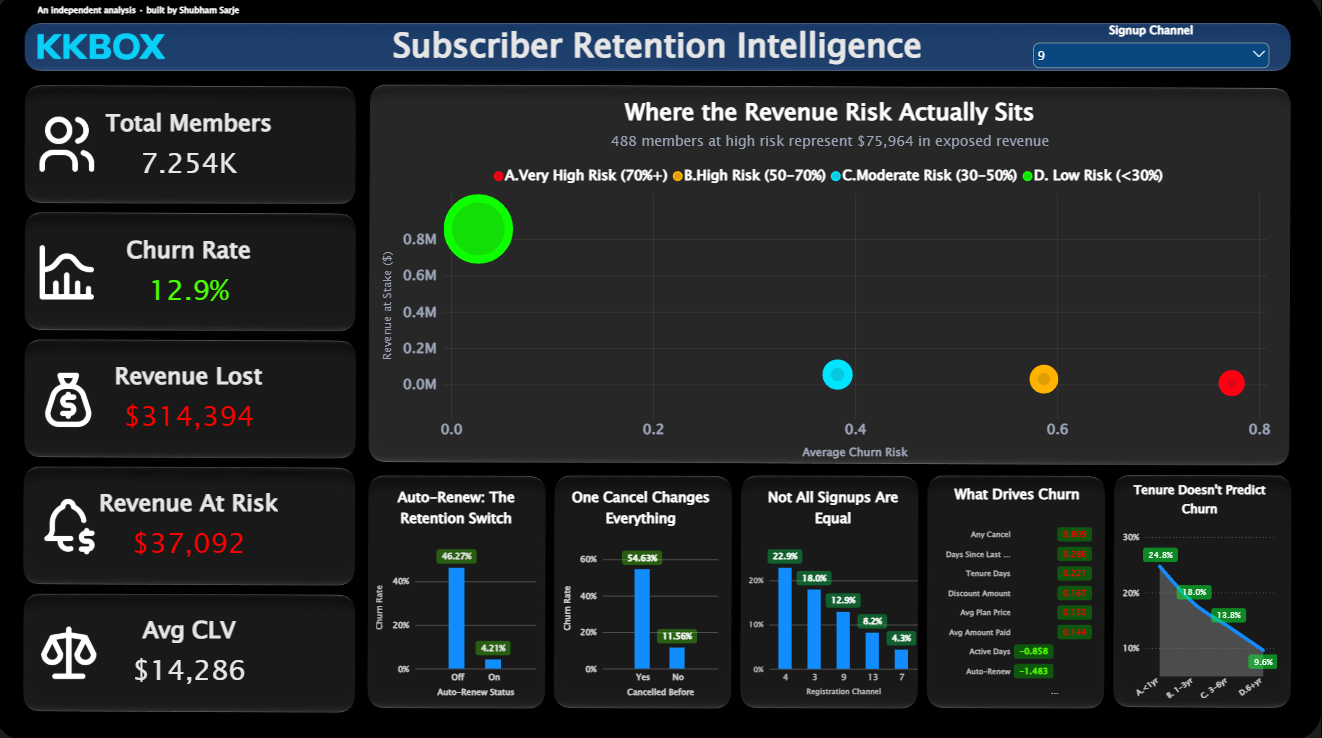

Layout of this report page (visuals, bound fields, positions):
{"tool":"powerbi","page":{"name":"Page 1","canvas":[1920,1080],"ordinal":0},"visuals":[{"type":"cardVisual","title":"Total Members","fields":{"Data":["_Measures.Total Members"]},"box":[48,128,464,176],"z":0},{"type":"cardVisual","title":"Total Members","fields":{"Data":["_Measures.Churn Rate"]},"box":[48,320,464,160],"z":1000},{"type":"cardVisual","title":"Total Members","fields":{"Data":["_Measures.Revenue Lost"]},"box":[48,496,464,176],"z":2000},{"type":"cardVisual","title":"Total Members","fields":{"Data":["_Measures.Avg CLV"]},"box":[48,864,464,176],"z":3000},{"type":"cardVisual","title":"Total Members","fields":{"Data":["_Measures.Revenue At Risk"]},"box":[48,688,464,160],"z":4000},{"type":"scatterChart","title":"Where the Revenue Risk Actually Sits","fields":{"Series":["members.Risk Tier"],"Size":["_Measures.Risk Tier Member Count"],"X":["_Measures.Risk Tier Avg Risk"],"Y":["_Measures.Risk Tier Revenue"]},"box":[544,128,1328,560],"z":5000},{"type":"columnChart","title":"Auto-Renew: The Retention Switch","fields":{"Category":["members.Auto Renew Label"],"Y":["_Measures.Churn Rate"]},"box":[536,696,264,336],"z":6000},{"type":"columnChart","title":"One Cancel Changes Everything","fields":{"Category":["members.Cancel Label"],"Y":["_Measures.Churn Rate"]},"box":[808,696,256,336],"z":7000},{"type":"clusteredColumnChart","title":"Not All Signups Are Equal","fields":{"Category":["Channel Impact.registered_via"],"Y":["Sum(Channel Impact.Churn Rate)"]},"box":[1074.9,696.7,276.9,334.8],"z":8000},{"type":"barChart","title":"What Drives Churn","fields":{"Category":["Feature Importance2.Feature"],"Y":["Sum(Feature Importance2.Coefficient)"]},"box":[1352,696,256,336],"z":9000},{"type":"lineChart","title":"Tenure Doesn''t Predict Churn","fields":{"Category":["members.Tenure Cohort1"],"Y":["_Measures.Churn Rate"]},"box":[1616,688,256,352],"z":10000},{"type":"slicer","title":"Signup Channel","fields":{"Values":["members.registered_via"]},"box":[1498.4,38,351.1,88.7],"z":11000},{"type":"image","box":[52.5,166.5,103.2,95.9],"z":12000},{"type":"image","box":[54.3,352.9,99.5,94.1],"z":13000},{"type":"image","box":[52.5,537.5,106.8,94.1],"z":14000},{"type":"image","box":[54.3,720.2,103.2,92.3],"z":15000},{"type":"image","box":[52.5,904.8,108.6,95.9],"z":16000},{"type":"image","box":[61.5,50.7,184.6,45.2],"z":17000},{"type":"textbox","box":[555.6,36.2,807.1,74.2],"z":18000},{"type":"textbox","box":[61.5,9,371,29],"z":19000}]}

Visuals, with their boxes in screenshot pixels (x1, y1, x2, y2), scaled from the page's 1920x1080 canvas onto the 1322x738 screenshot:
"Total Members" cardVisual: BBox(33, 87, 353, 208)
"Total Members" cardVisual: BBox(33, 219, 353, 328)
"Total Members" cardVisual: BBox(33, 339, 353, 459)
"Total Members" cardVisual: BBox(33, 590, 353, 711)
"Total Members" cardVisual: BBox(33, 470, 353, 579)
"Where the Revenue Risk Actually Sits" scatterChart: BBox(375, 87, 1289, 470)
"Auto-Renew: The Retention Switch" columnChart: BBox(369, 476, 551, 705)
"One Cancel Changes Everything" columnChart: BBox(556, 476, 733, 705)
"Not All Signups Are Equal" clusteredColumnChart: BBox(740, 476, 931, 705)
"What Drives Churn" barChart: BBox(931, 476, 1107, 705)
"Tenure Doesn''t Predict Churn" lineChart: BBox(1113, 470, 1289, 711)
"Signup Channel" slicer: BBox(1032, 26, 1273, 87)
image: BBox(36, 114, 107, 179)
image: BBox(37, 241, 106, 305)
image: BBox(36, 367, 110, 432)
image: BBox(37, 492, 108, 555)
image: BBox(36, 618, 111, 684)
image: BBox(42, 35, 169, 66)
textbox: BBox(383, 25, 938, 75)
textbox: BBox(42, 6, 298, 26)
